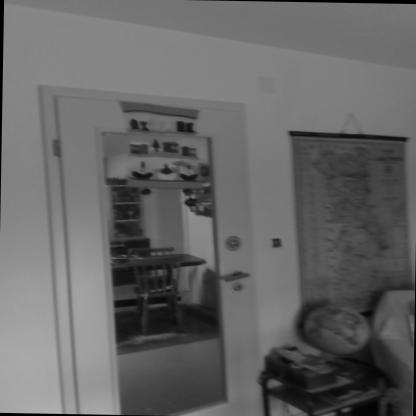closed: (19, 74, 272, 413)
